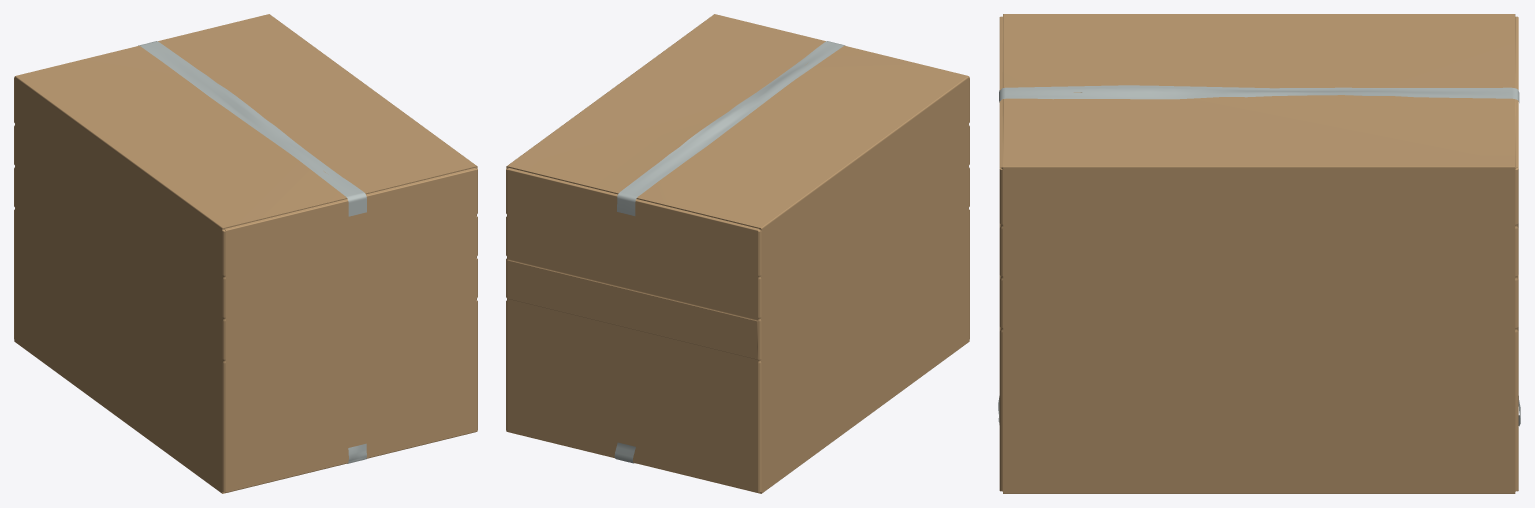
The model's file is box_multiDepth_a12.glb.
3 renders of one model, left to right at view 1: azimuth 30°, elevation 25°; view 2: azimuth 150°, elevation 25°; view 3: azimuth 270°, elevation 25°, orthographic. The views are drawn at different scales.
Bounding box in the file's own units: 0.355 × 0.3577 × 0.5106.
